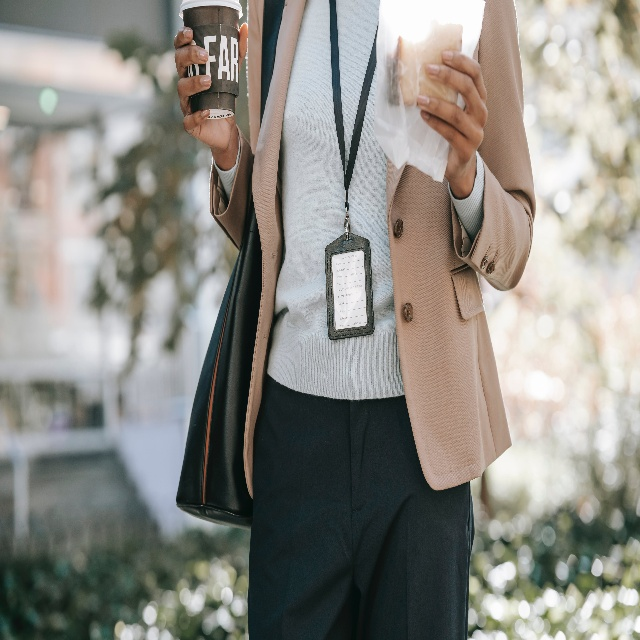Sin_guantes: (173, 22, 248, 155), (417, 49, 488, 183)
